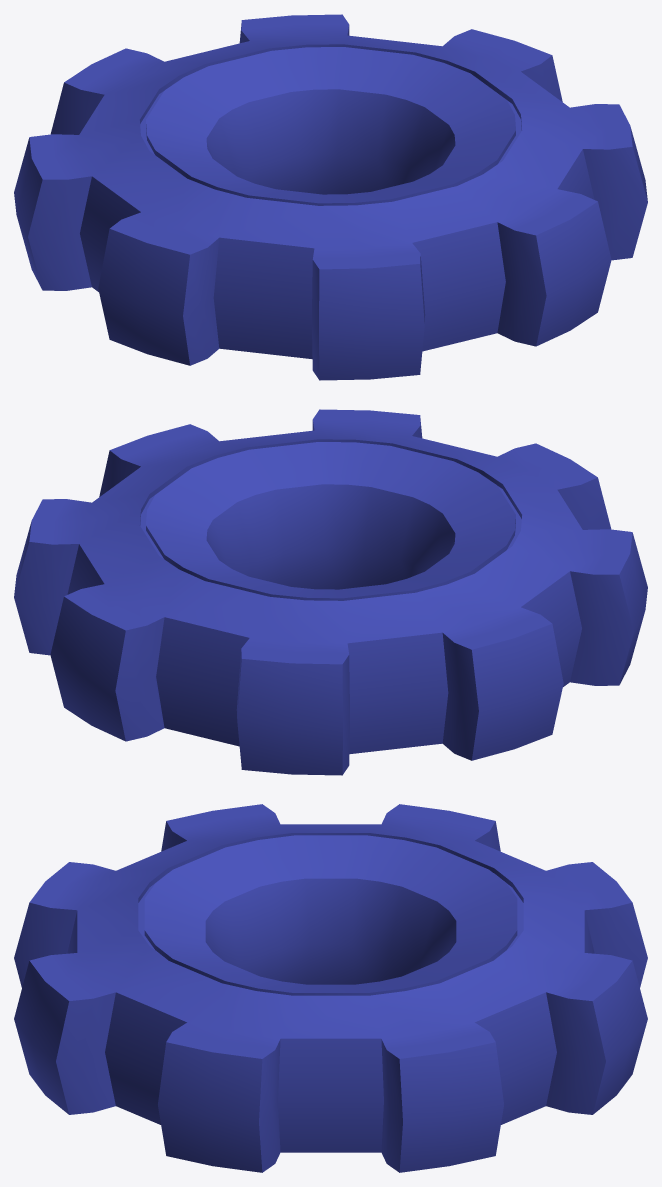
Rendered from Particle03.fbx.
The picture shows the model from 3 angles, top to bottom: view 1: azimuth 30°, elevation 25°; view 2: azimuth 150°, elevation 25°; view 3: azimuth 270°, elevation 25°; orthographic projection. The views are drawn at different scales.
Parts seen in each view (by area): view 1: Gear.001; view 2: Gear.001; view 3: Gear.001.
Part boxes in pixels (left/top/right/bottom): Gear.001: left=14, top=14, right=647, bottom=380; Gear.001: left=14, top=409, right=647, bottom=775; Gear.001: left=14, top=804, right=647, bottom=1172.
Bounding box in the file's own units: 0.5367 × 0.1386 × 0.5367.
